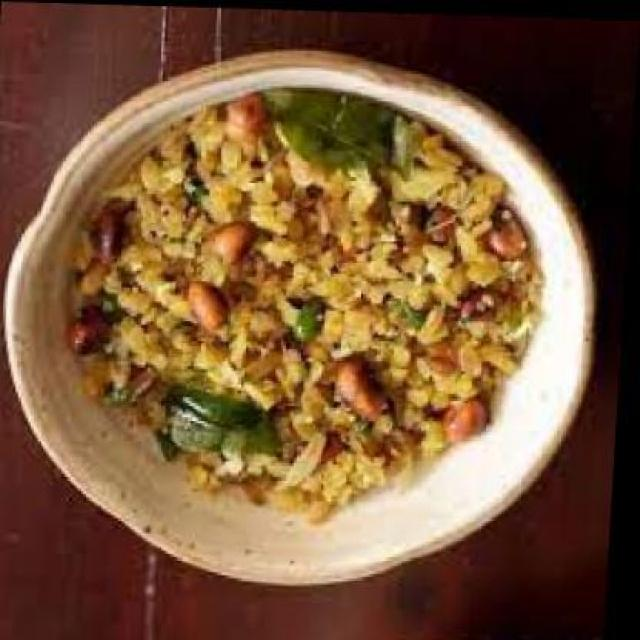poha: (60, 79, 552, 526)
